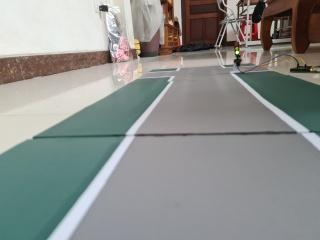green: (229, 34, 244, 64)
